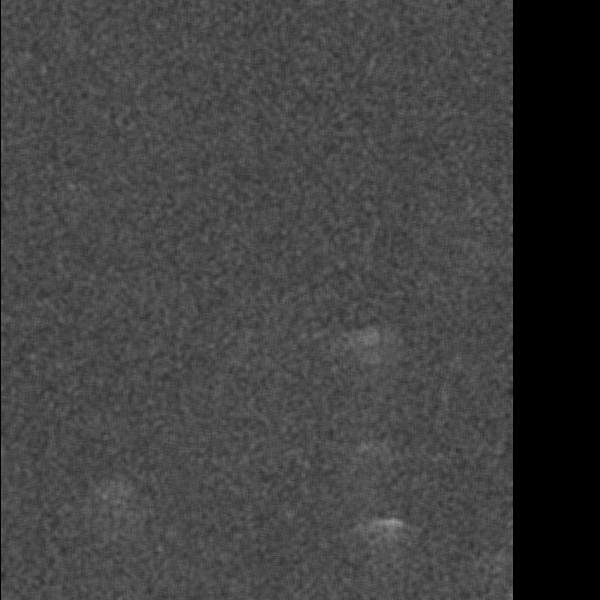spark: (402, 242, 439, 381), (190, 105, 225, 176), (77, 201, 103, 266), (203, 370, 222, 438), (367, 55, 390, 100), (367, 444, 390, 479), (490, 524, 508, 545), (396, 351, 413, 369)
